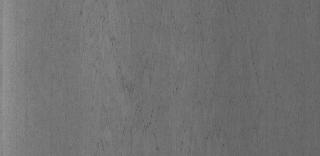silk spot: (79, 12, 197, 148)
